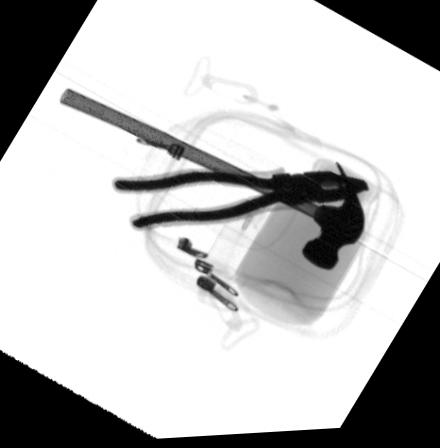Hammer: (59, 88, 365, 275)
Pliers: (110, 171, 367, 233)
